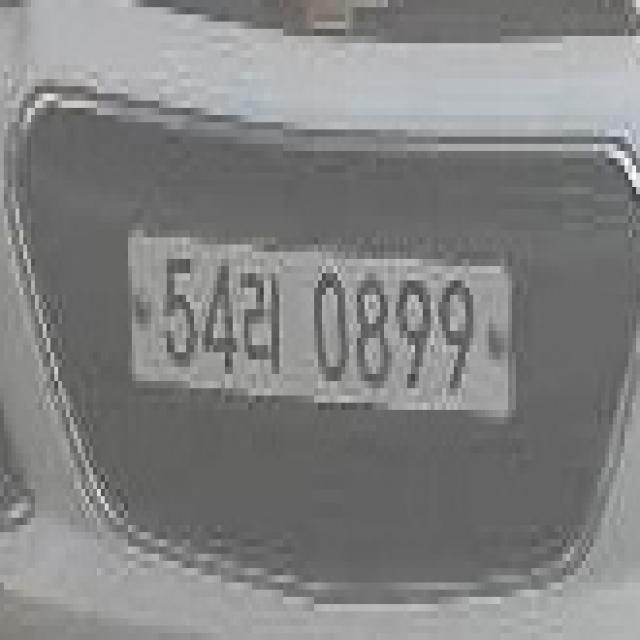0: (303, 244, 353, 388)
4: (202, 237, 244, 374)
5: (155, 245, 198, 381)
8: (349, 259, 392, 395)
9: (438, 273, 485, 403), (392, 266, 434, 396)
leo: (233, 259, 291, 367)
license_plate: (112, 223, 528, 439)
